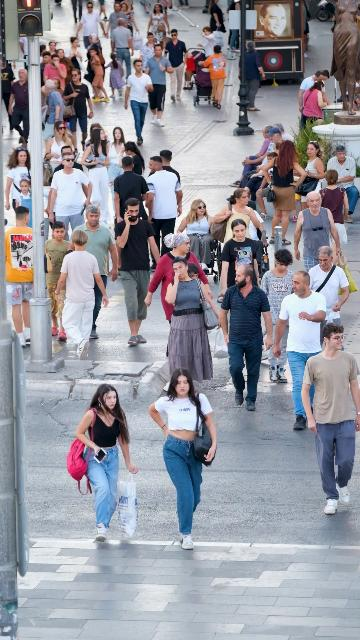person: (147, 368, 219, 551), (300, 323, 360, 516), (75, 383, 138, 542), (272, 270, 328, 432), (219, 265, 273, 412), (164, 256, 220, 385), (54, 229, 109, 360), (114, 197, 161, 347), (69, 204, 119, 338), (144, 232, 214, 325), (260, 249, 300, 383), (262, 139, 308, 247), (4, 206, 36, 348), (226, 126, 282, 201), (46, 152, 93, 241), (293, 191, 343, 273), (146, 155, 183, 258), (219, 219, 264, 303), (44, 221, 75, 342), (307, 246, 350, 329), (214, 188, 268, 249), (80, 128, 111, 229), (176, 198, 215, 274), (316, 169, 349, 252), (229, 126, 273, 188), (239, 151, 279, 219), (326, 145, 360, 223), (113, 156, 150, 225), (124, 60, 153, 145), (144, 43, 173, 128), (238, 40, 266, 112), (297, 70, 329, 131), (197, 44, 227, 109), (44, 121, 79, 176), (105, 127, 126, 217), (300, 139, 326, 210), (5, 146, 32, 211), (41, 79, 64, 153), (8, 69, 30, 146), (165, 29, 188, 101), (75, 2, 106, 54), (111, 17, 134, 78), (302, 80, 330, 128), (147, 4, 171, 57), (88, 51, 110, 102), (12, 179, 33, 228), (105, 53, 126, 100), (197, 26, 217, 70), (55, 49, 74, 95), (123, 140, 146, 177), (104, 2, 127, 39), (138, 32, 158, 73), (49, 146, 75, 176), (159, 149, 181, 182), (183, 49, 199, 90), (210, 0, 227, 32), (84, 33, 98, 59)
